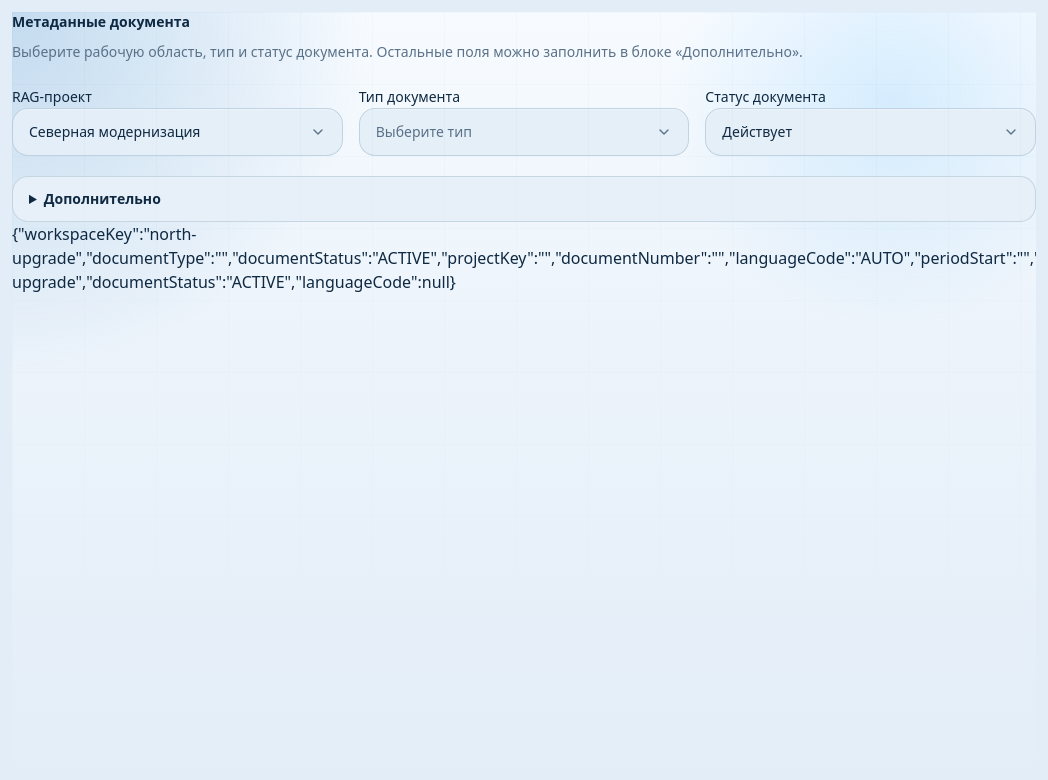
Test: MaterialMetadataFormSection › filters projects by selected workspace
Click the heading "Дополнительно": point(102, 198) [44,189,161,208]
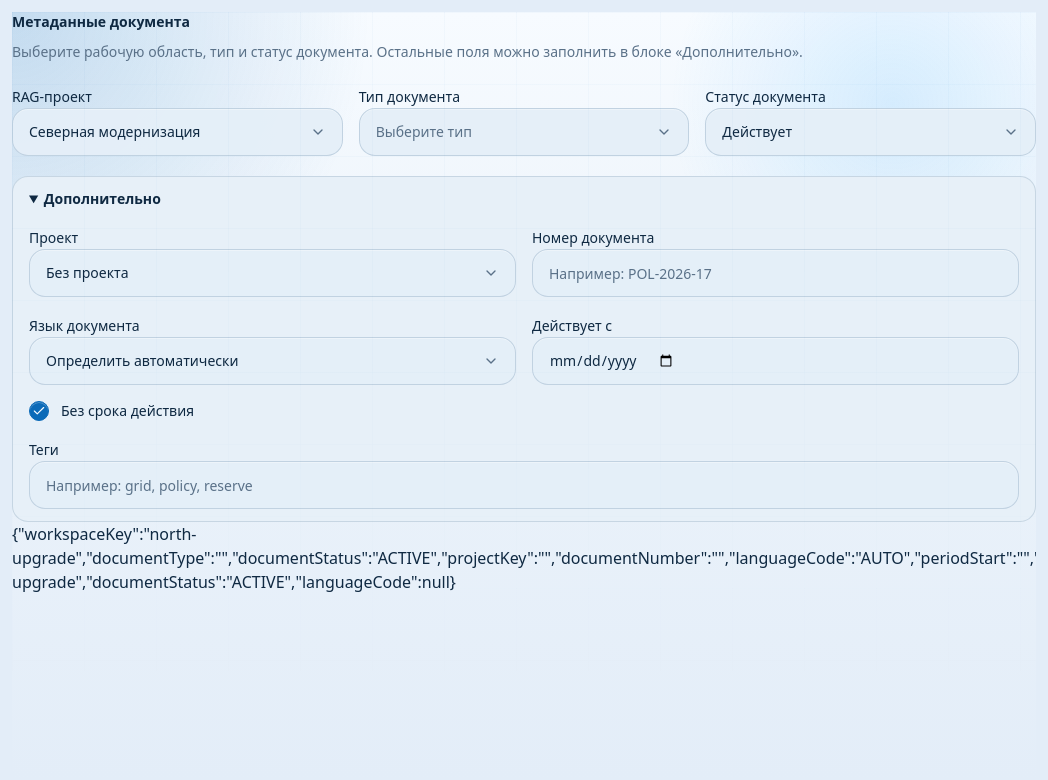
Click the dropdown labelled "проект": point(87, 272) [29,249,516,297]
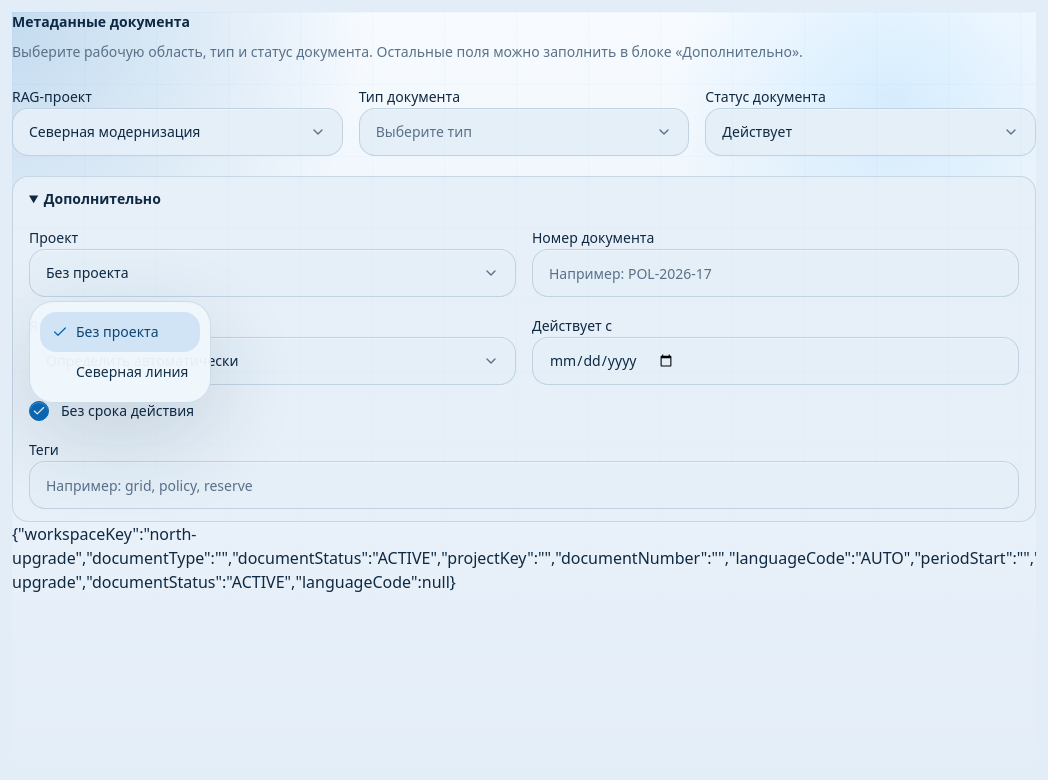
Expected: the option "Северная линия" is shown, [76,362,188,381]
